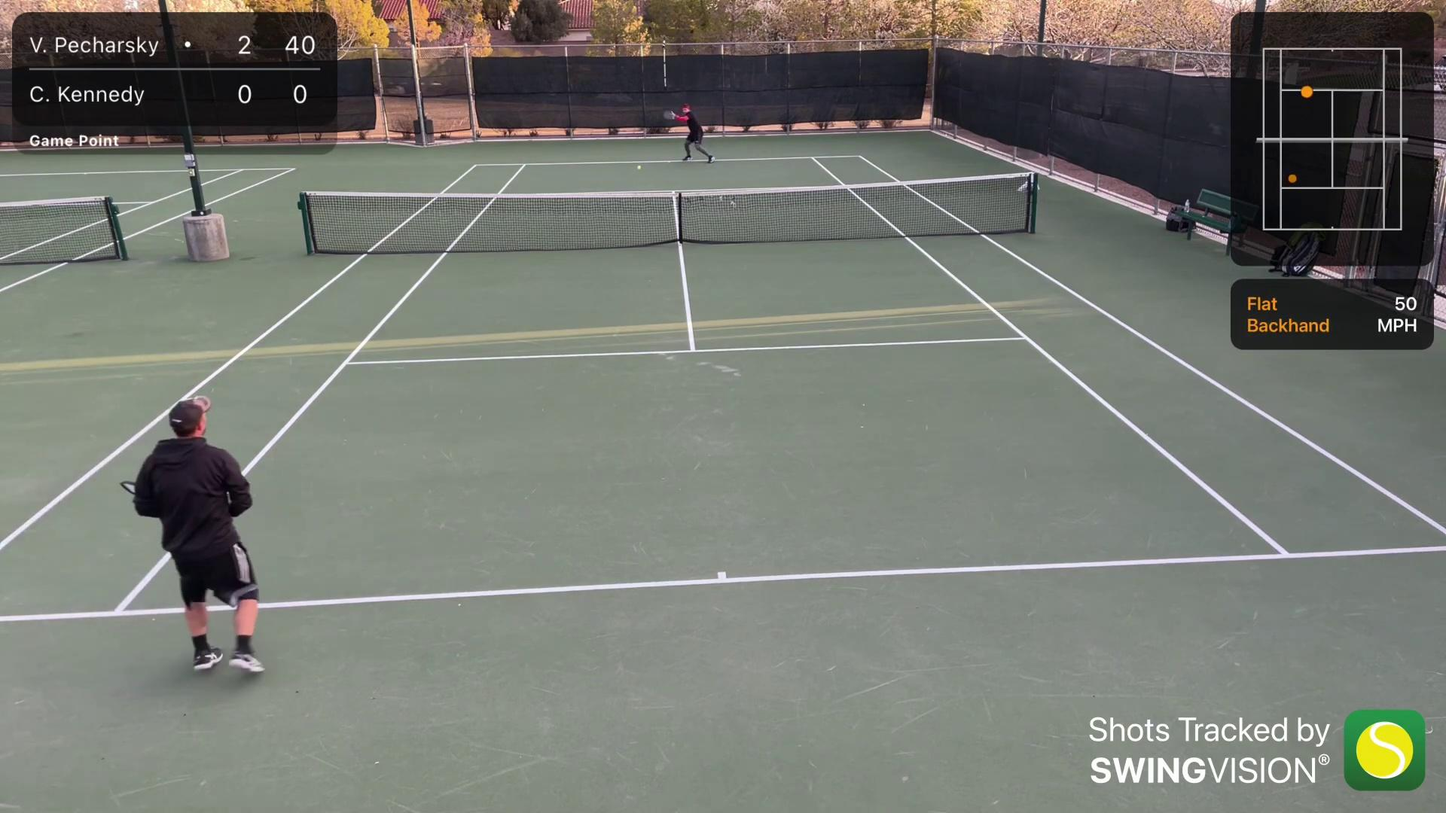ball: (636, 164, 642, 171)
